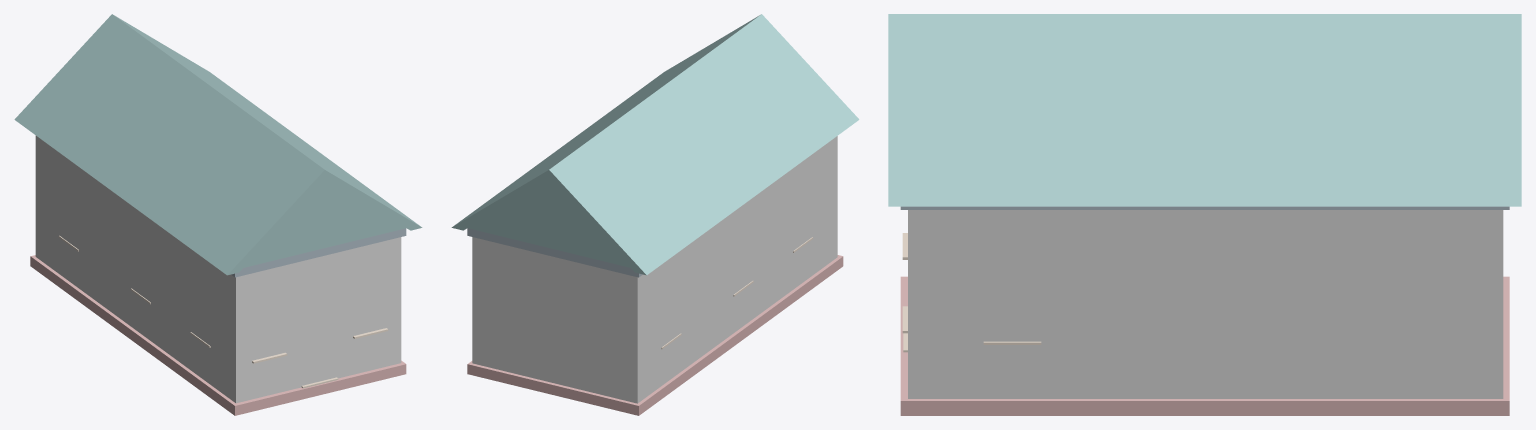
File: ghetto-house.dae
3 renders of one model, left to right at view 1: azimuth 30°, elevation 25°; view 2: azimuth 150°, elevation 25°; view 3: azimuth 270°, elevation 25°, orthographic. The views are drawn at different scales.
Parts seen in each view (by area): view 1: house-roof-col, house-walls-lod:20, house-base-col, ceiling-col; view 2: house-roof-col, house-walls-lod:20, house-base-col, ceiling-col; view 3: house-roof-col, house-walls-lod:20, house-base-col, ceiling-col.
Boxes of the visible parts, x1,y1,x2,y2 form: house-roof-col: [14, 14, 422, 275]; house-walls-lod:20: [35, 135, 401, 403]; house-base-col: [30, 255, 406, 415]; ceiling-col: [231, 228, 406, 277]; house-roof-col: [451, 14, 859, 275]; house-walls-lod:20: [472, 136, 837, 403]; house-base-col: [467, 255, 843, 415]; ceiling-col: [467, 228, 642, 277]; house-roof-col: [888, 14, 1521, 206]; house-walls-lod:20: [908, 210, 1503, 398]; house-base-col: [900, 276, 1509, 415]; ceiling-col: [900, 206, 1509, 209].
Bounding box in the file's own units: 4.91 × 9.26 × 5.48.
